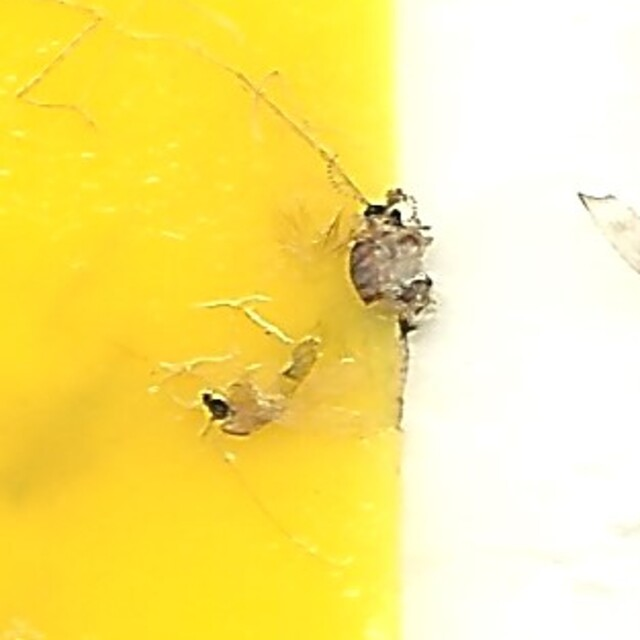Nematocera: (333, 187, 436, 360), (204, 323, 325, 453)
